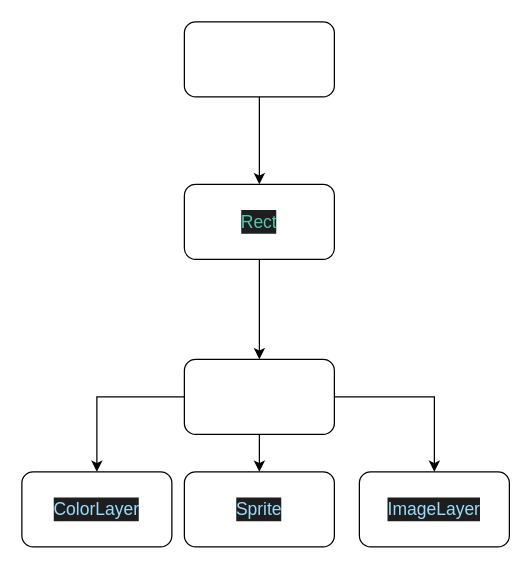
Image size: 531x579. Some labels were removed from this diagram. The shapes that lost their labels are listed below. From the top down, each one's box as (x1, y1, x2, y2) in pixels, then its label:
(183, 21, 334, 97): Polygon
(183, 358, 334, 434): Renderable
